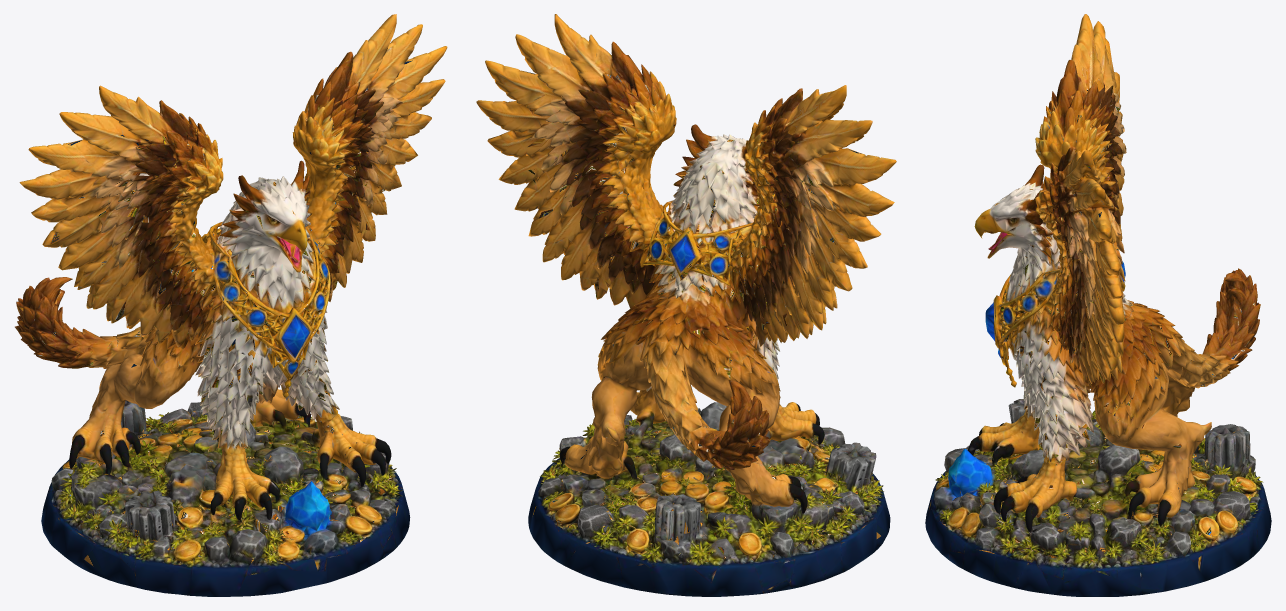
The model's file is griffin.glb.
3 renders of one model, left to right at view 1: azimuth 30°, elevation 25°; view 2: azimuth 150°, elevation 25°; view 3: azimuth 270°, elevation 25°, orthographic. The views are drawn at different scales.
Size of the model in its own units: 1.79 by 1.9 by 1.33.
1 material, 1 textured.
